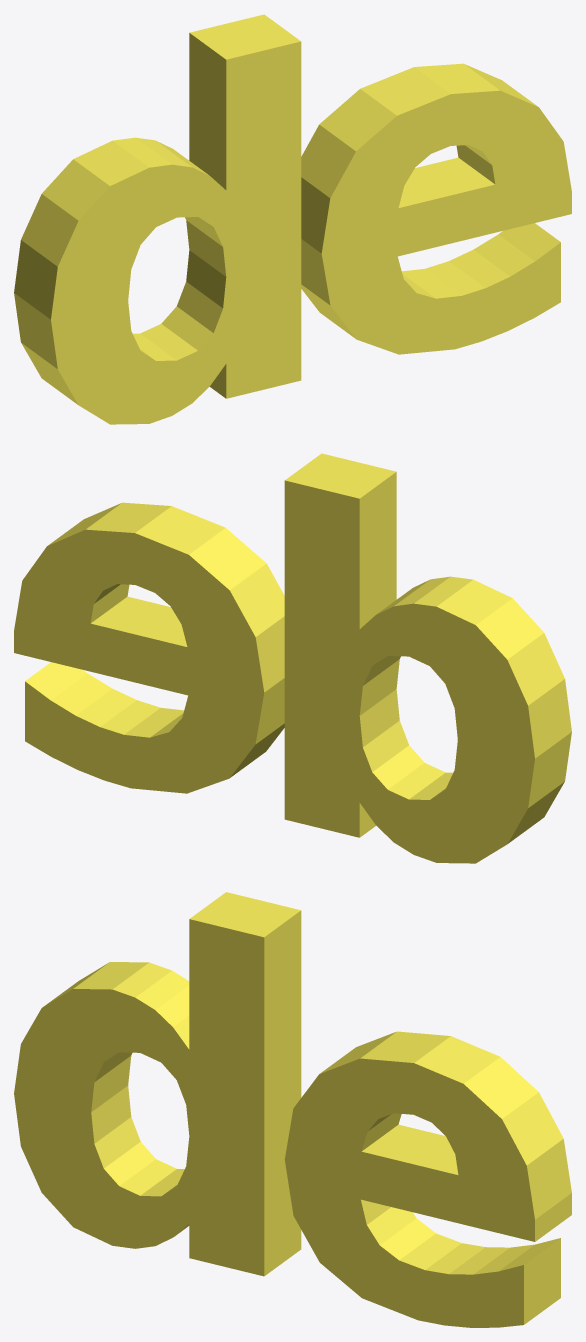
File: suku_kecil_de.glb
3 views of the same model, one above another, from view 1: azimuth 30°, elevation 25°; view 2: azimuth 150°, elevation 25°; view 3: azimuth 330°, elevation 25° (orthographic).
Parts seen in each view (by area): view 1: geometry_0; view 2: geometry_0; view 3: geometry_0.
Boxes of the visible parts, x1,y1,x2,y2 form: geometry_0: (14, 14, 571, 424); geometry_0: (14, 453, 571, 863); geometry_0: (14, 892, 571, 1327).
Bounding box in the file's own units: 12.22 × 7.74 × 1.5.
